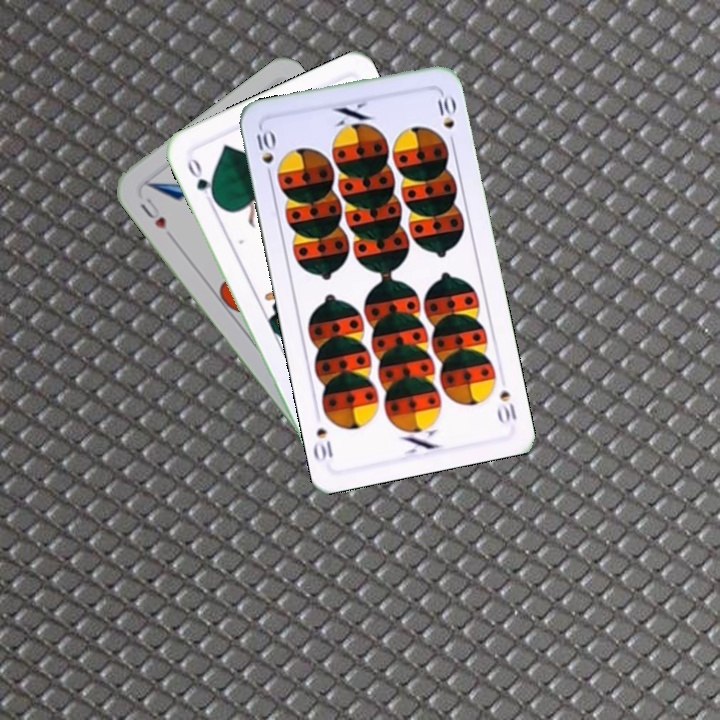GO: (183, 152, 219, 208)
HU: (135, 193, 170, 232)
S10: (252, 124, 278, 183), (493, 386, 519, 427)
